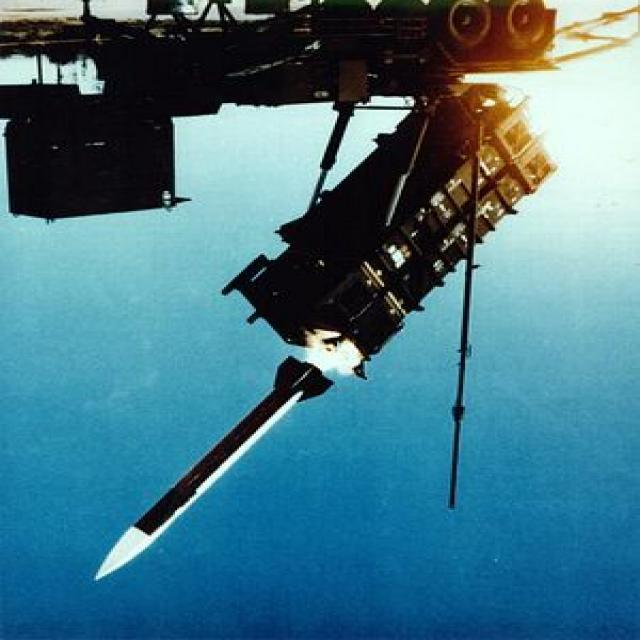missile: (92, 356, 334, 586)
